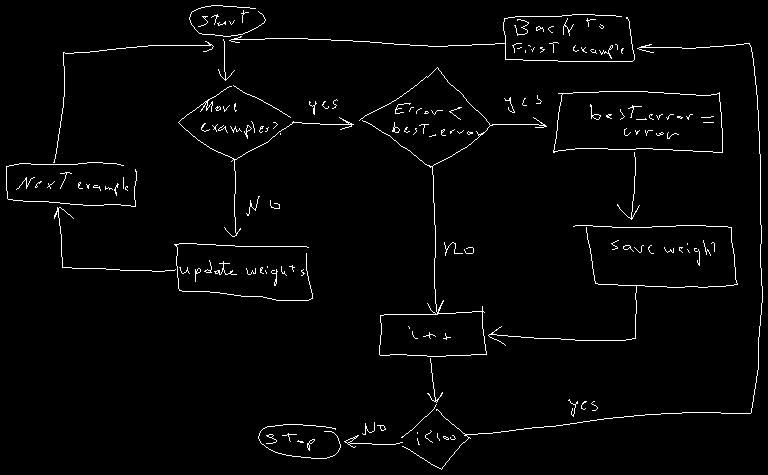arrow: (464, 43, 762, 435), (53, 41, 213, 162), (488, 285, 636, 345), (54, 207, 175, 271), (229, 36, 505, 46), (427, 166, 443, 314), (617, 152, 639, 219), (224, 159, 240, 236), (293, 117, 353, 129), (344, 435, 402, 447), (427, 358, 442, 402), (218, 39, 234, 80), (491, 117, 546, 127)
decision: (359, 67, 490, 167), (178, 85, 293, 160), (401, 404, 470, 469)
process: (553, 91, 722, 152), (573, 225, 737, 287), (174, 243, 312, 300), (503, 14, 634, 61), (6, 162, 136, 206), (379, 306, 486, 356)
terminator: (258, 424, 340, 458), (189, 5, 265, 36)
text: (512, 18, 623, 58), (590, 104, 713, 138), (179, 260, 304, 285), (200, 99, 280, 138), (392, 103, 483, 136), (611, 240, 714, 265), (16, 172, 127, 195), (266, 433, 314, 450), (198, 10, 248, 26), (504, 95, 541, 112), (246, 196, 279, 215), (408, 326, 450, 339), (417, 430, 455, 444), (568, 399, 597, 416), (309, 99, 337, 114), (444, 242, 473, 255), (362, 422, 385, 434)
